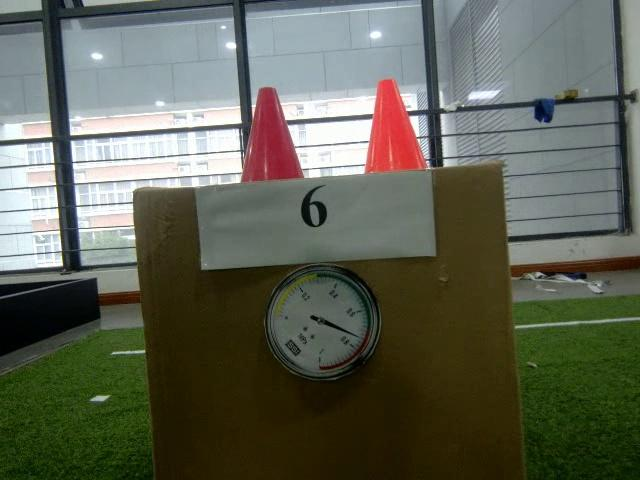6: (300, 182, 328, 228)
Dashboard: (264, 264, 382, 382)
orange_barrel: (238, 86, 307, 183)
red_barrel: (363, 79, 429, 175)
ssi: (285, 340, 301, 356)
